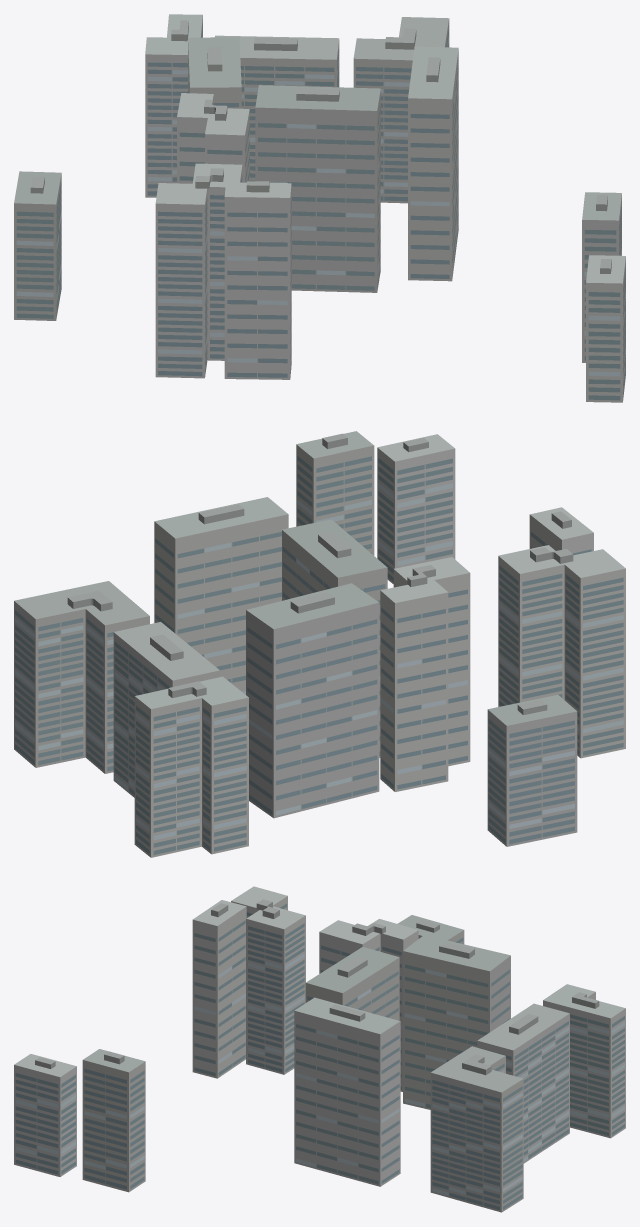
Rendered from apt-a15010307.glb.
3 renders of one model, top to bottom at view 1: azimuth 30°, elevation 25°; view 2: azimuth 150°, elevation 25°; view 3: azimuth 270°, elevation 25°, orthographic. The views are drawn at different scales.
Parts seen in each view (by area): view 1: apt-a15010307; view 2: apt-a15010307; view 3: apt-a15010307.
Part boxes in pixels (x1=…): apt-a15010307: x1=14, y1=14, x2=625, y2=402; apt-a15010307: x1=14, y1=431, x2=625, y2=857; apt-a15010307: x1=14, y1=886, x2=625, y2=1212.
Size of the model in its own units: 184 by 68 by 238.
